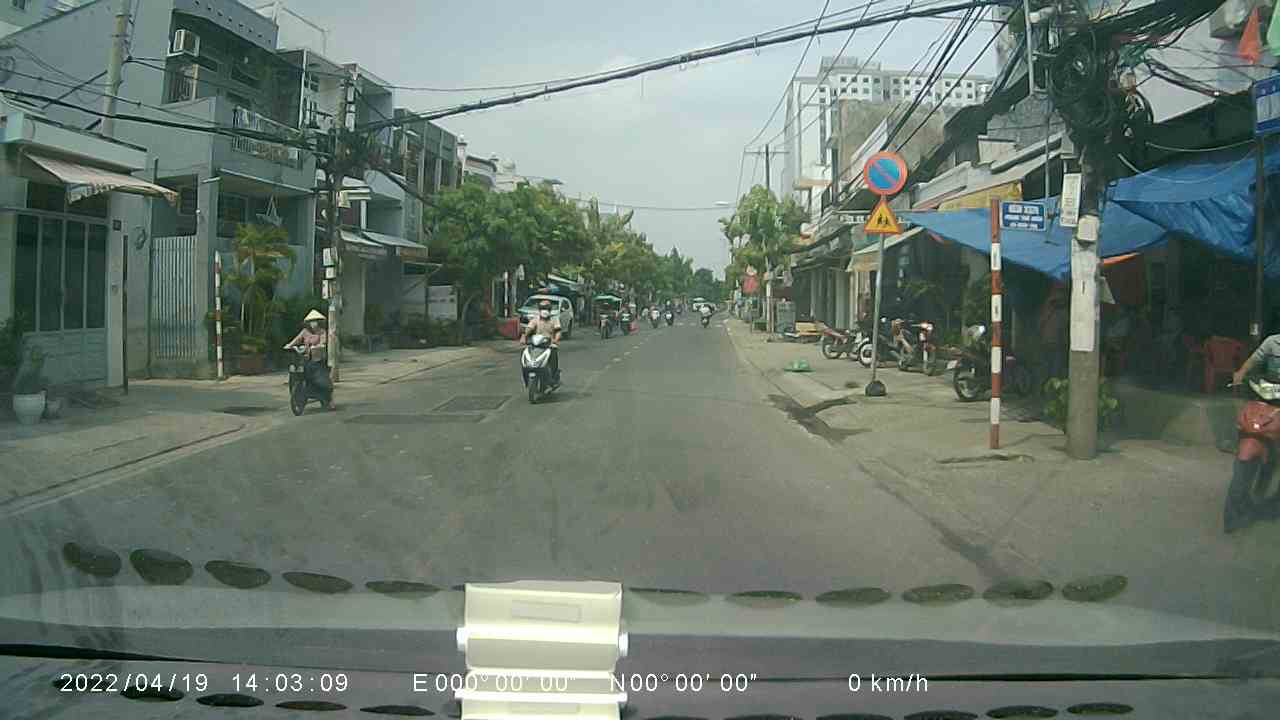Bien khac: (859, 196, 906, 235)
Cam do xe: (862, 150, 907, 196)
